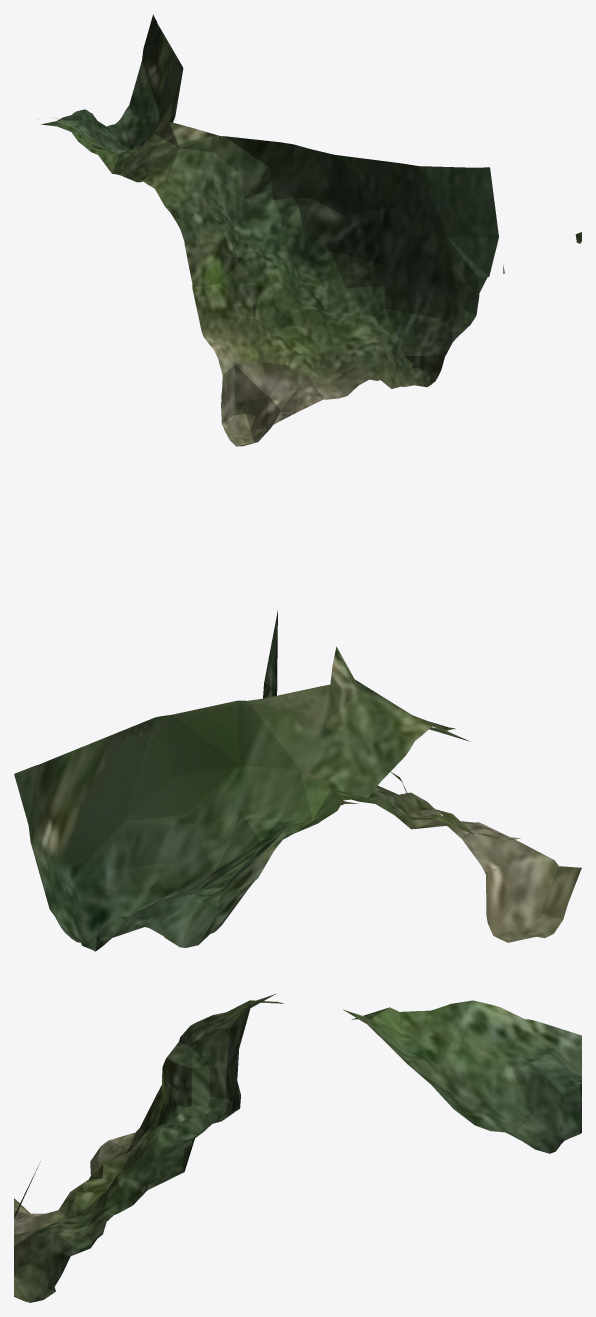
The picture shows the model from 3 angles, top to bottom: view 1: azimuth 30°, elevation 25°; view 2: azimuth 150°, elevation 25°; view 3: azimuth 270°, elevation 25°; orthographic projection. The views are drawn at different scales.
Size of the model in its own units: 4.62 by 3.18 by 5.9.
Materials: 2 (2 with a texture image).
